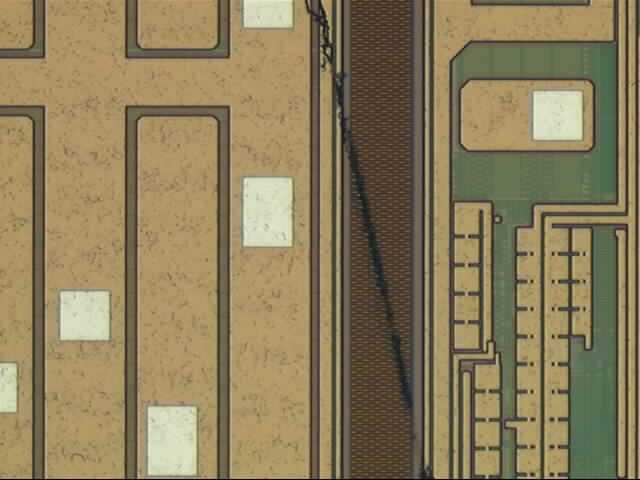SCRATCH: (303, 1, 441, 480)
